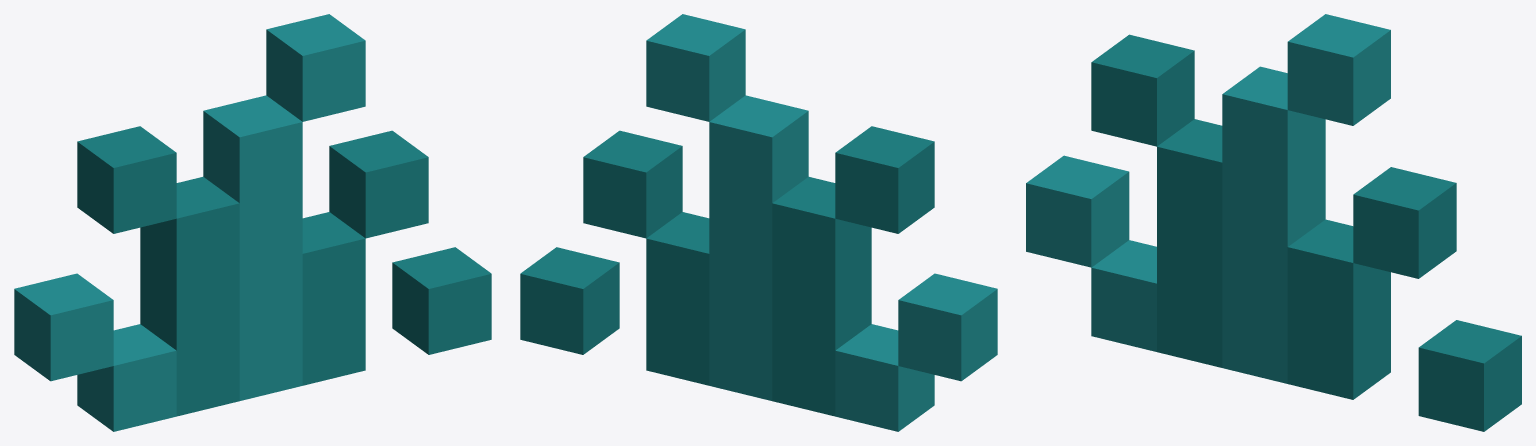
File: Spectral Grass.glb
3 renders of one model, left to right at view 1: azimuth 30°, elevation 25°; view 2: azimuth 150°, elevation 25°; view 3: azimuth 330°, elevation 25°, orthographic. The views are drawn at different scales.
Parts seen in each view (by area): view 1: spectral_grass; view 2: spectral_grass; view 3: spectral_grass.
Boxes of the visible parts, left/top/right/bottom form: spectral_grass: left=14, top=14, right=491, bottom=431; spectral_grass: left=520, top=14, right=997, bottom=431; spectral_grass: left=1026, top=14, right=1521, bottom=431.
Size of the model in its own units: 14 by 10 by 2.
Materials: 1 (1 with a texture image).
